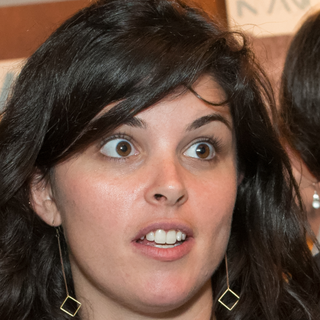eye: (94, 134, 147, 162), (178, 136, 223, 164)
